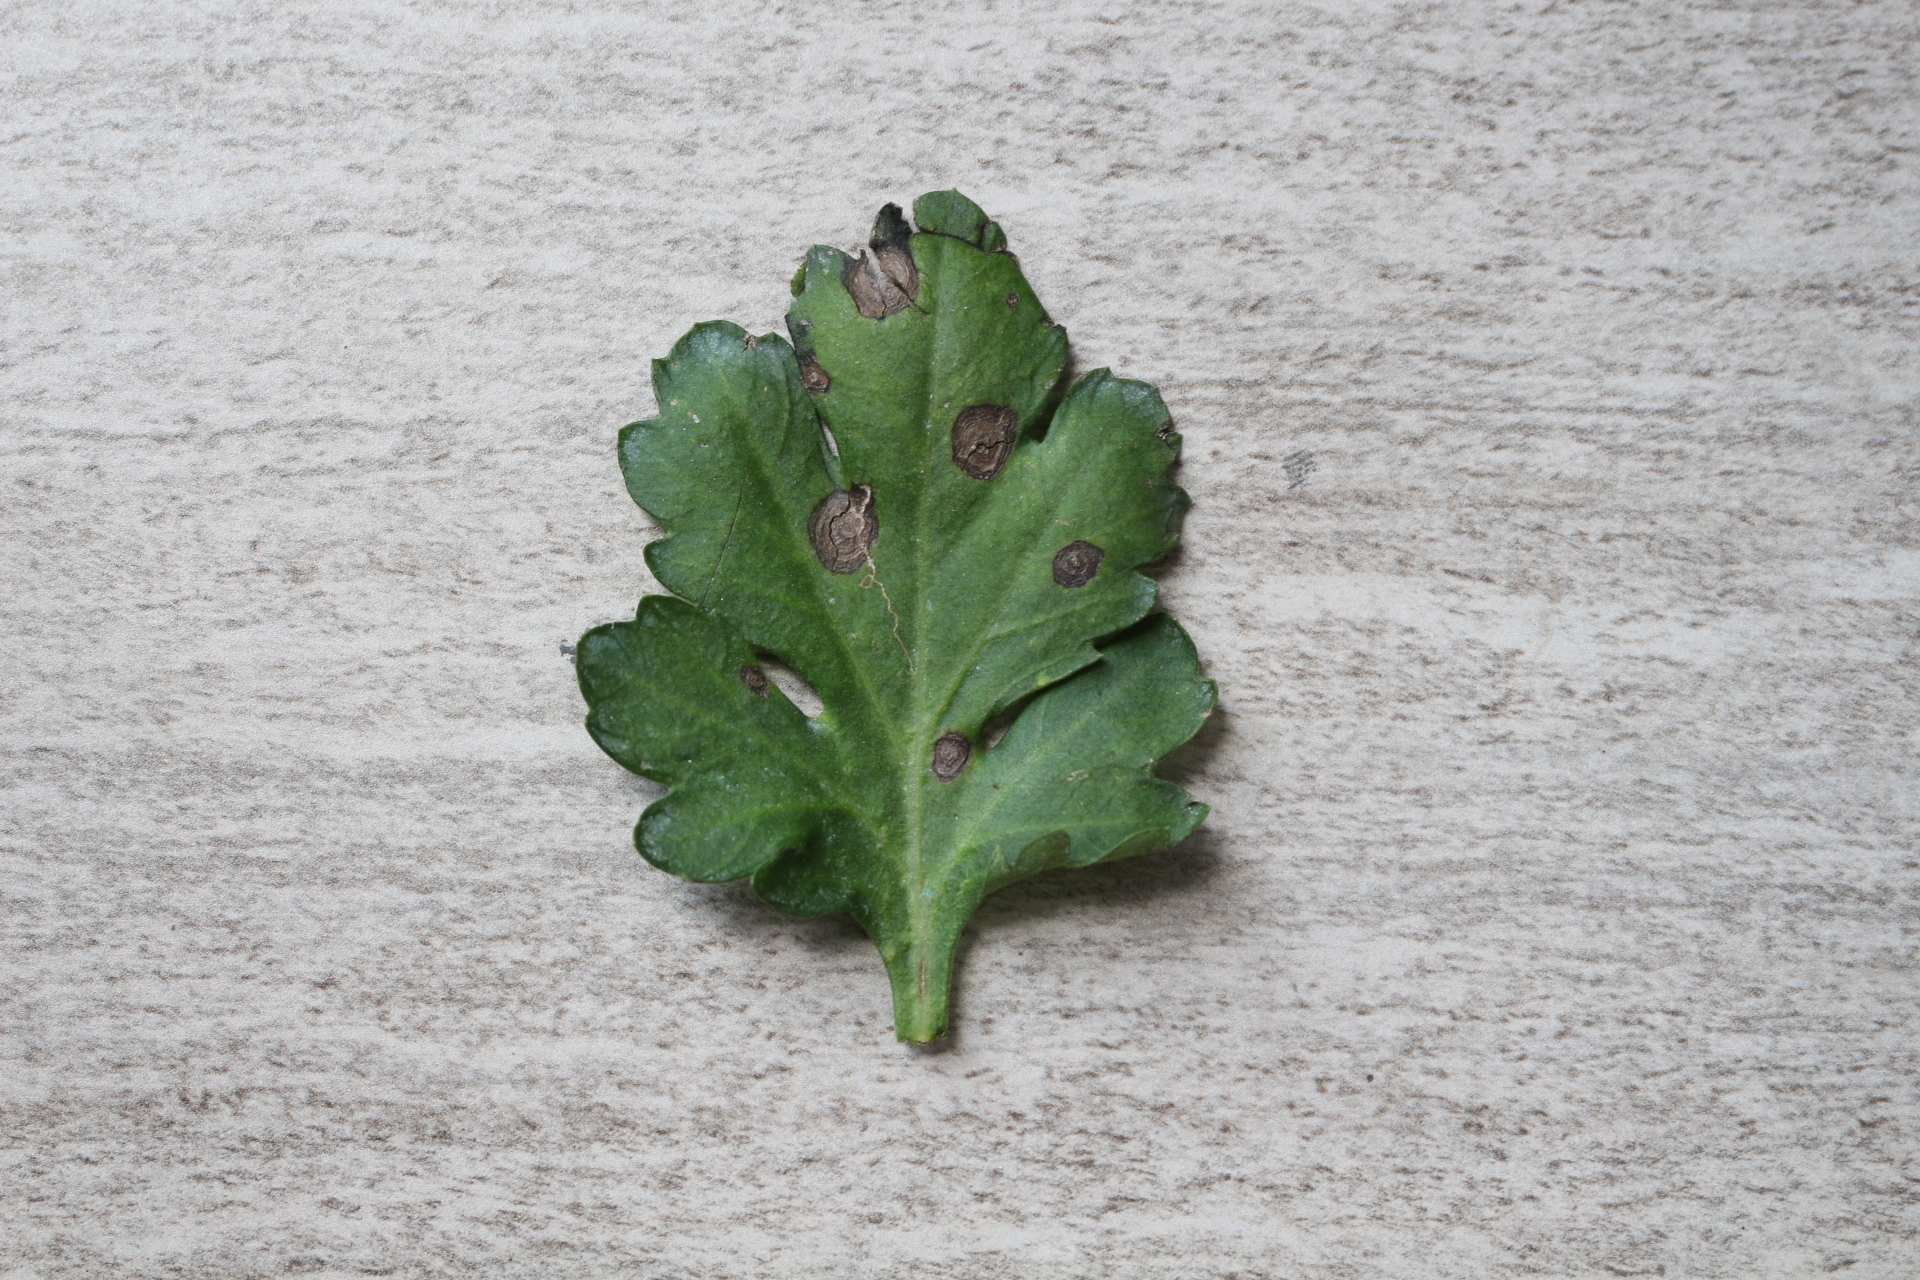namden: (830, 224, 926, 324), (801, 480, 890, 577), (946, 400, 1021, 491), (1050, 534, 1111, 594), (929, 729, 980, 783), (789, 349, 834, 401), (739, 651, 771, 694)
